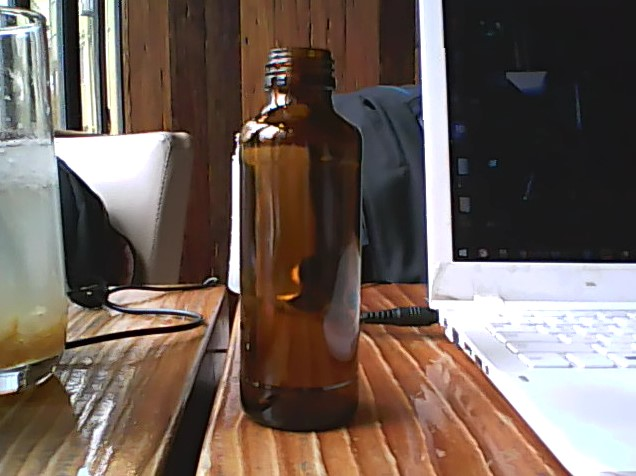Glass: (235, 41, 365, 442)
